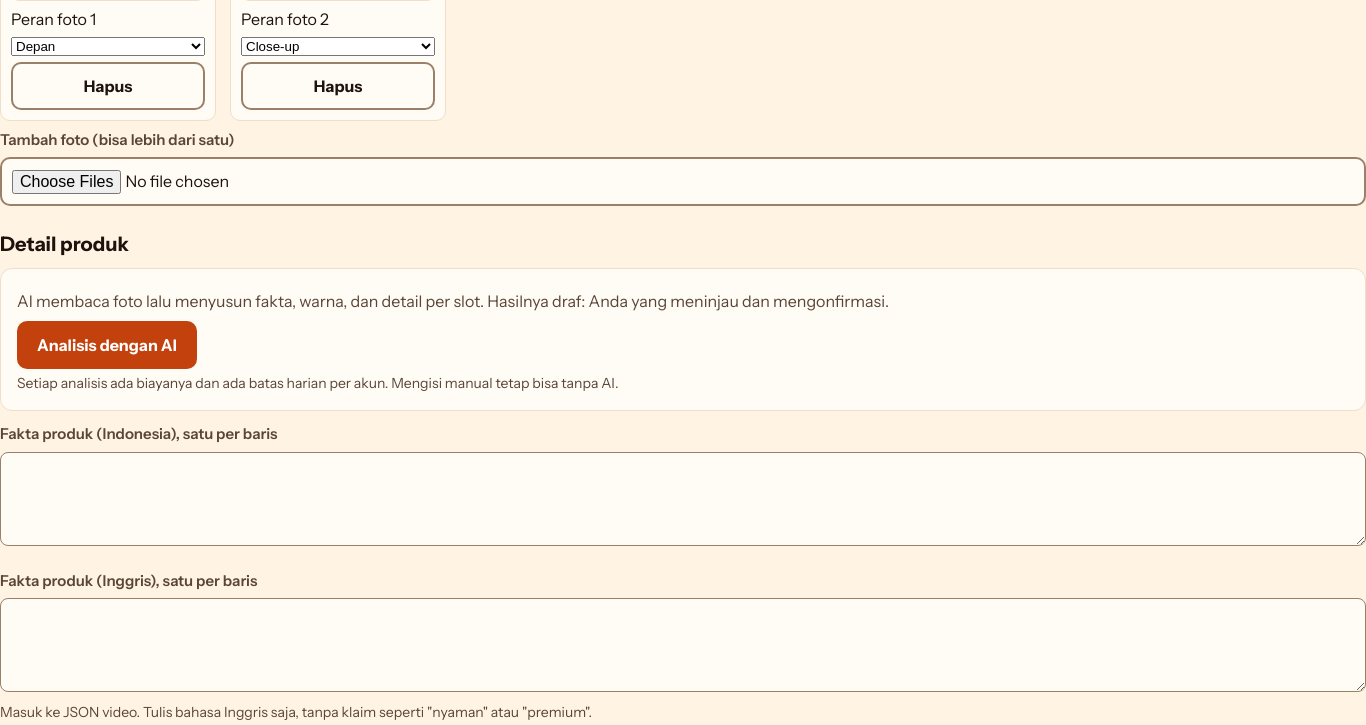
Test case: halaman Produk detail › lapis kedua: bila (karena kesalahan server) biaya ikut terkirim ke staf, halaman tetap TIDAK menampilkannya
The width and height of the screenshot is (1366, 725).
(page scrolled)
Click the button with test id "analisis" at (107, 345), box [17,321,197,369]
(page scrolled)
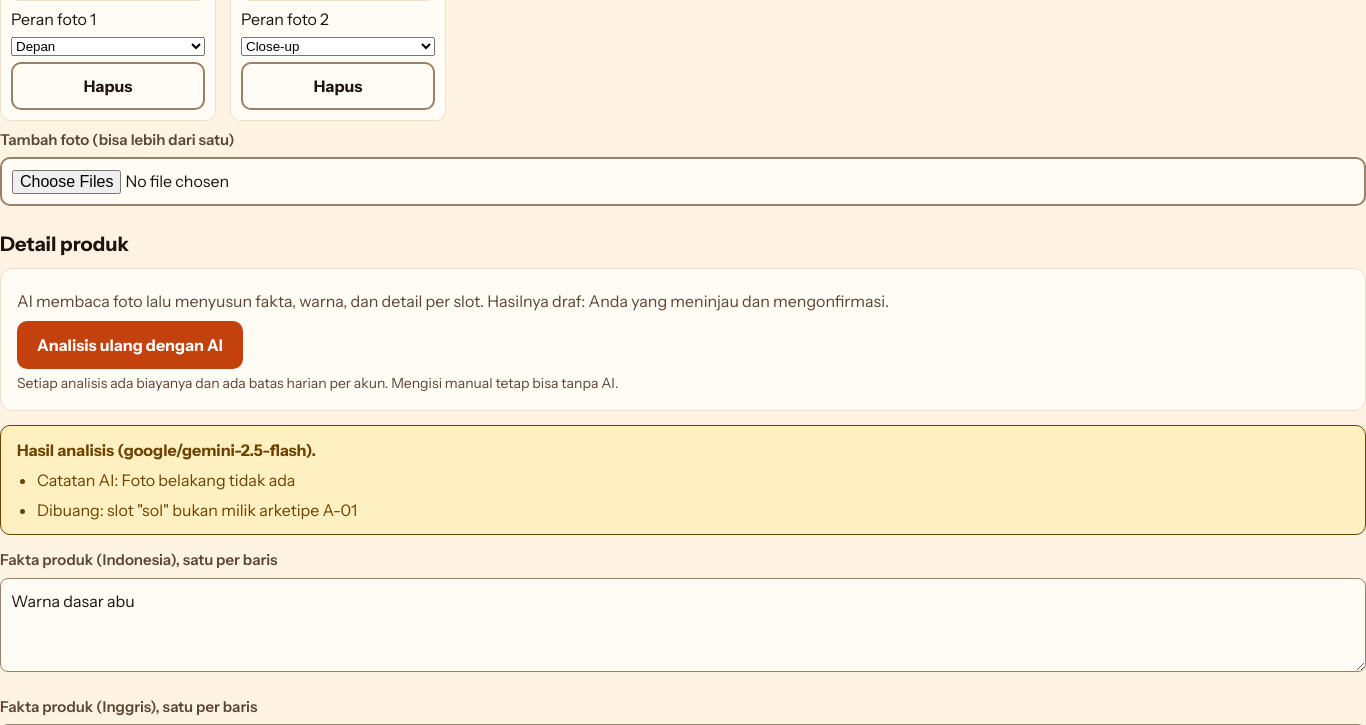
Expected: the message with test id "info-analisis" is shown, [0,425,1365,535]
